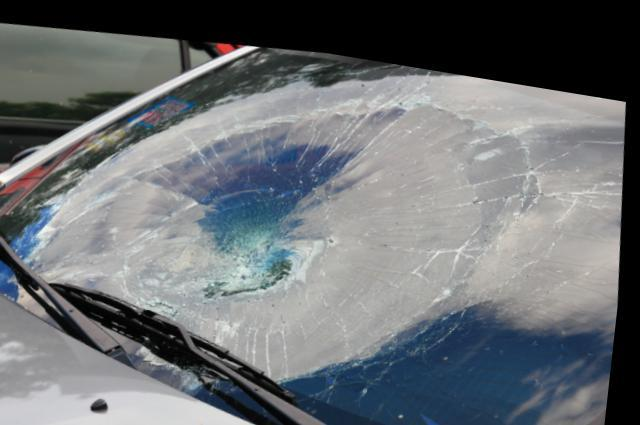glass shatter: (0, 37, 626, 425)
